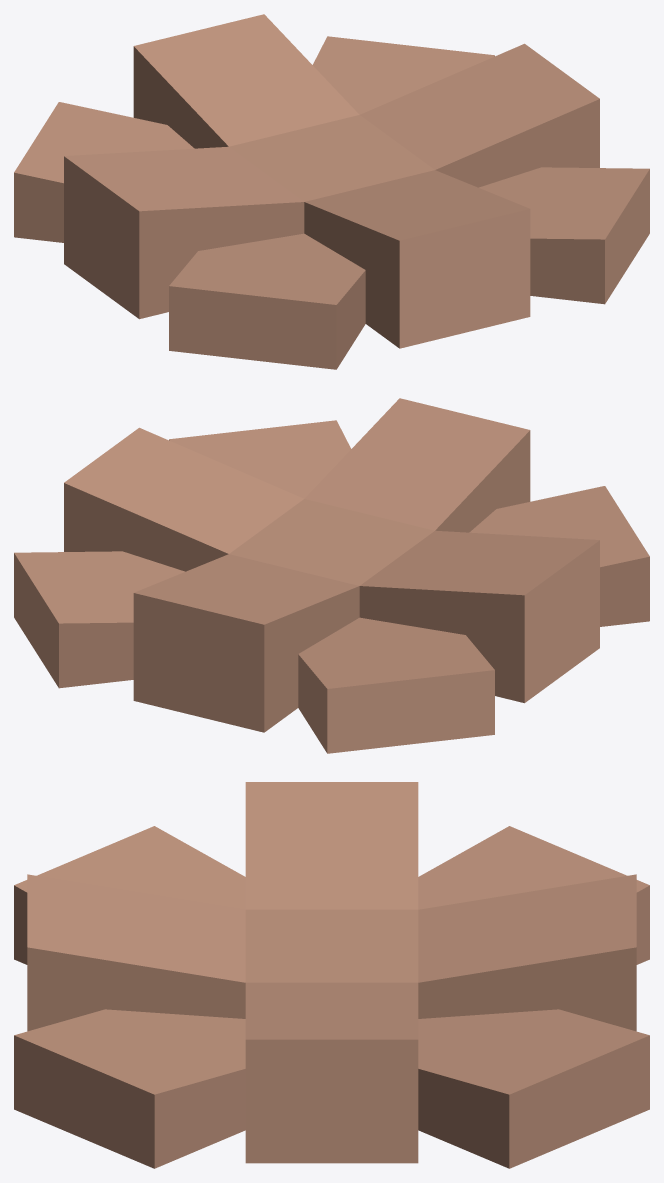
File: campfire_logs.glb
3 renders of one model, top to bottom at view 1: azimuth 30°, elevation 25°; view 2: azimuth 150°, elevation 25°; view 3: azimuth 270°, elevation 25°, orthographic. The views are drawn at different scales.
Parts seen in each view (by area): view 1: campfire_logs; view 2: campfire_logs; view 3: campfire_logs.
Part boxes in pixels (x1,y1,x2,y2): campfire_logs: (14, 14, 649, 369); campfire_logs: (14, 398, 649, 753); campfire_logs: (14, 782, 649, 1168).
Size of the model in its own units: 0.2919 by 0.0626 by 0.2919.
